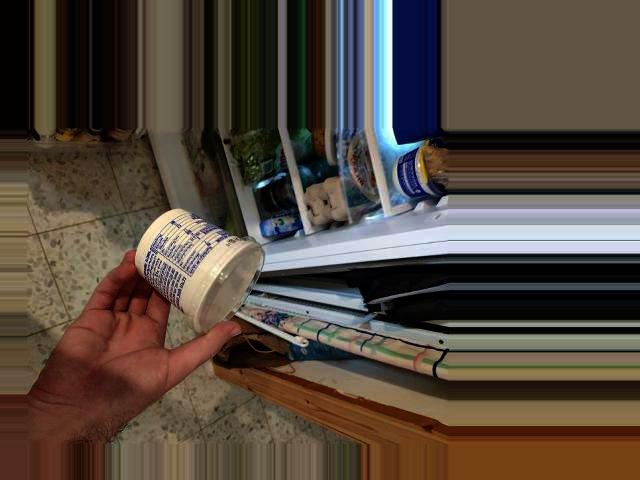cotage: (137, 222, 247, 342)
